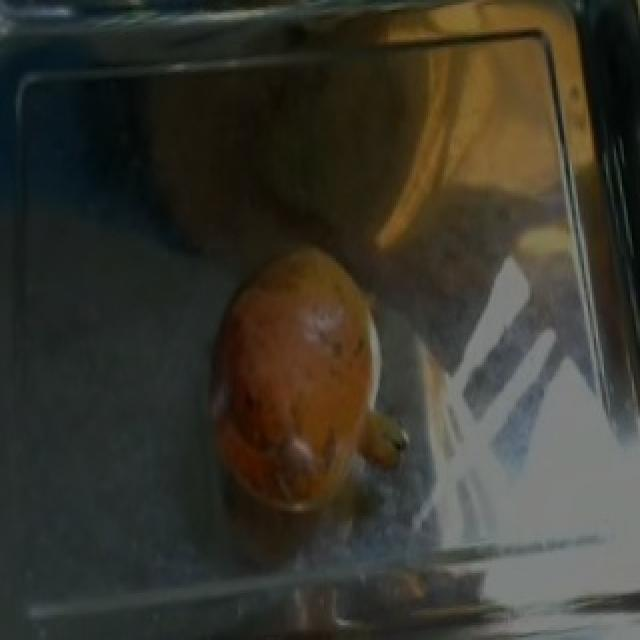fruit: (186, 223, 408, 499)
